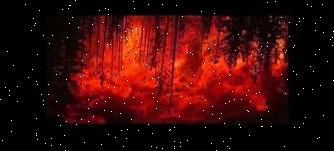fire: (83, 17, 287, 77)
